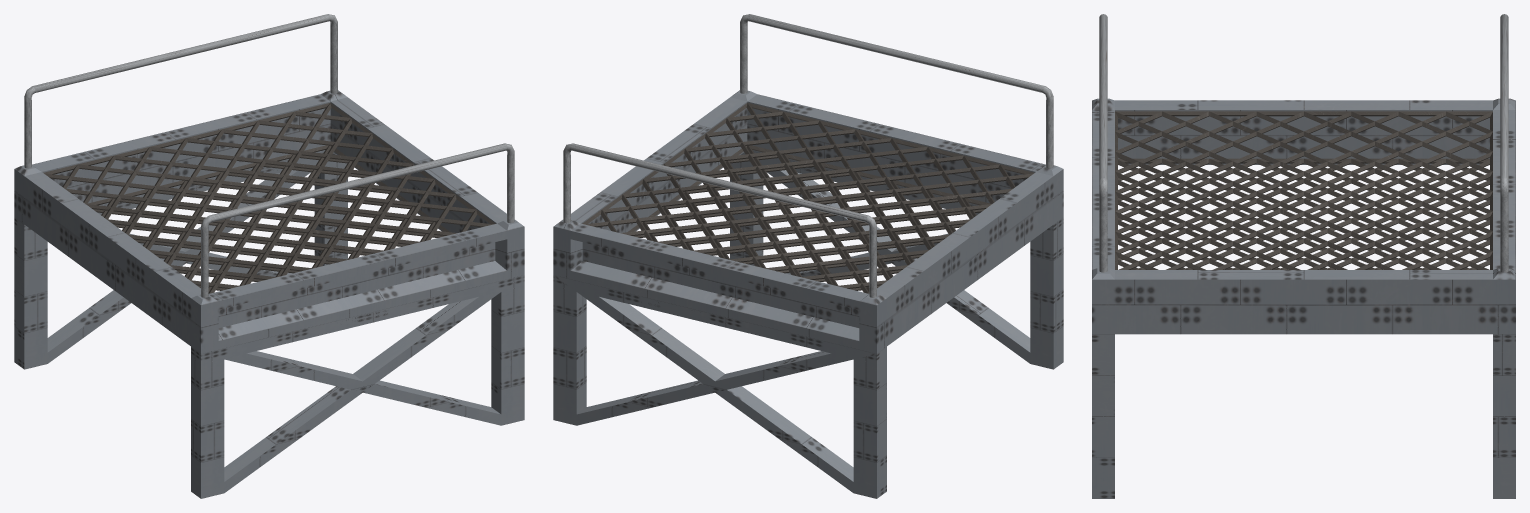
File: GridPlatformEnd.fbx
3 renders of one model, left to right at view 1: azimuth 30°, elevation 25°; view 2: azimuth 150°, elevation 25°; view 3: azimuth 270°, elevation 25°, orthographic. The views are drawn at different scales.
Parts seen in each view (by area): view 1: Grid_Platform, Support_L, Support_R; view 2: Grid_Platform, Support_L, Support_R; view 3: Grid_Platform, Support_R.
Part boxes in pixels (left/top/right/bottom): Grid_Platform: left=14, top=14, right=524, bottom=353; Support_L: left=14, top=164, right=501, bottom=498; Support_R: left=129, top=151, right=524, bottom=425; Grid_Platform: left=553, top=14, right=1063, bottom=353; Support_L: left=554, top=151, right=1063, bottom=498; Support_R: left=553, top=152, right=980, bottom=425; Grid_Platform: left=1092, top=14, right=1515, bottom=334; Support_R: left=1092, top=334, right=1515, bottom=498.
Bounding box in the file's own units: 3.5 × 3.5 × 2.86.
